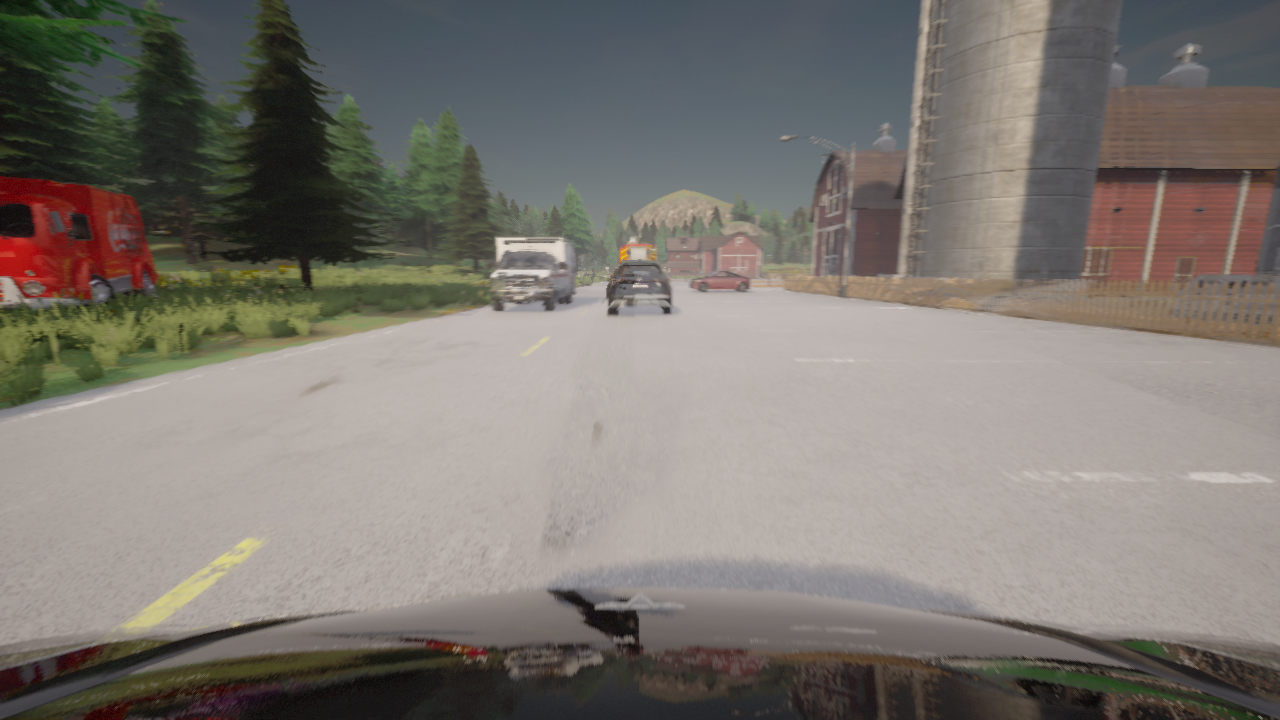cyclist: (0, 588, 1279, 719), (0, 177, 158, 317), (484, 237, 575, 312), (607, 259, 671, 314), (689, 271, 750, 291), (618, 237, 657, 264)
